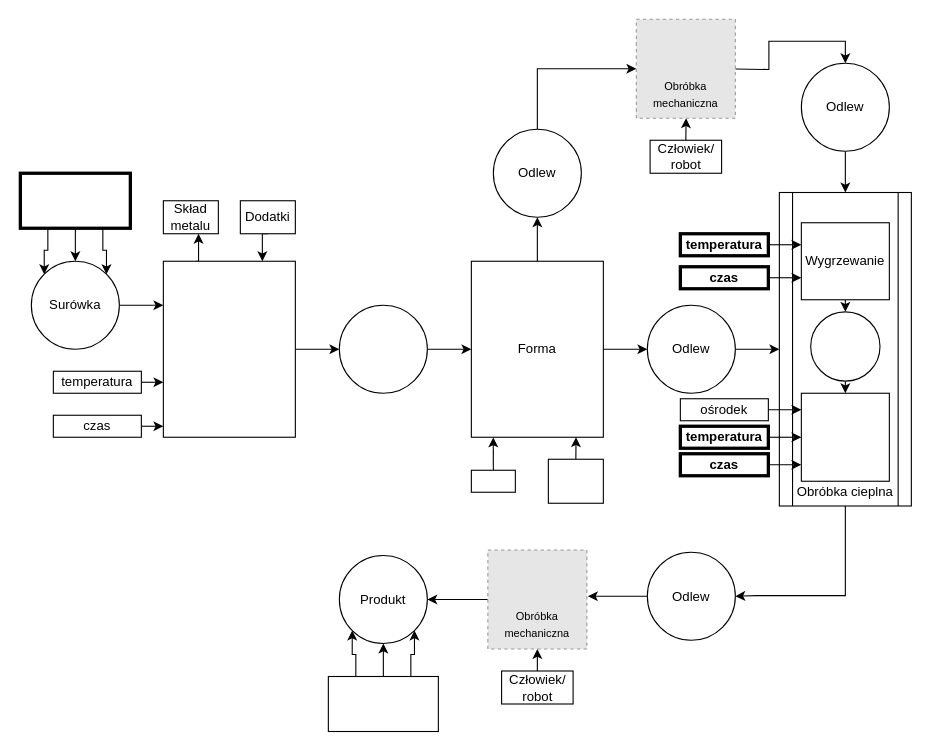
Image size: 931x751. Some labels were removed from this diagram. Grey dashed boxes stand in for pictures. Each missing label, with the centre of its shape:
"Chłodzenie" goes at point (844, 436).
"Ciekły metal" goes at point (382, 348).
"Parametry" goes at point (382, 703).
"Piec" goes at point (228, 348).
"Skład" goes at point (74, 200).
"skład/ materiał" goes at point (575, 480).
"typ" goes at point (492, 480).
"Wygrzany odlew" goes at point (845, 346).
